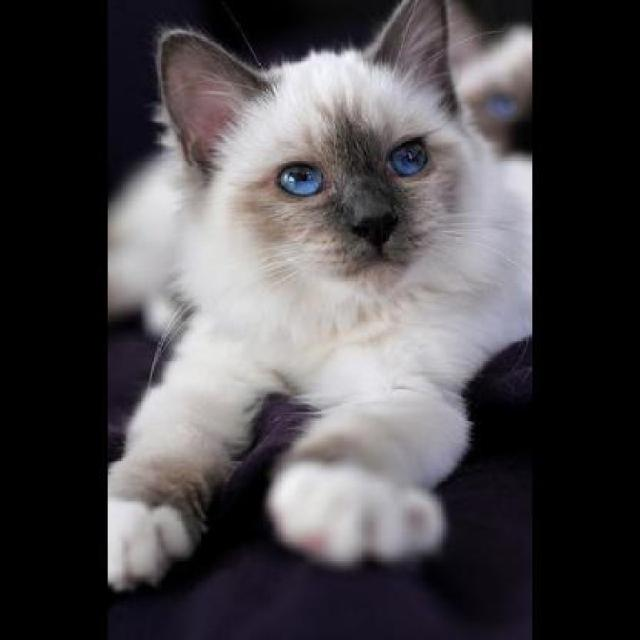unauthorized: (106, 0, 530, 592)
